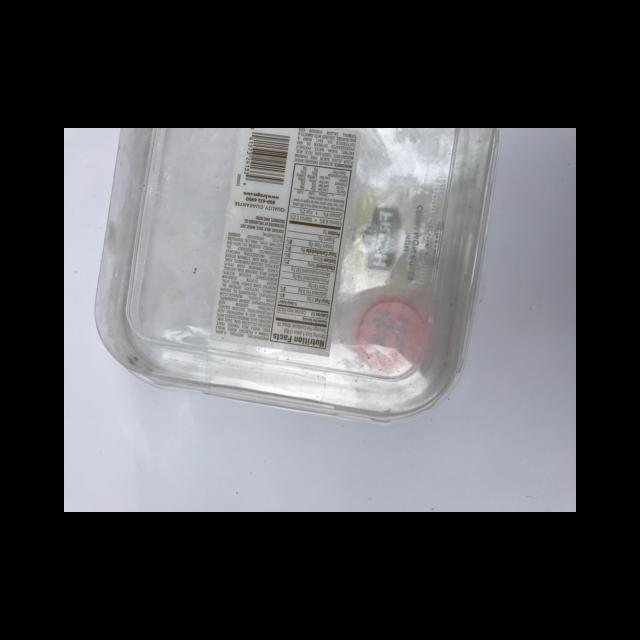plastic: (93, 128, 500, 424)
